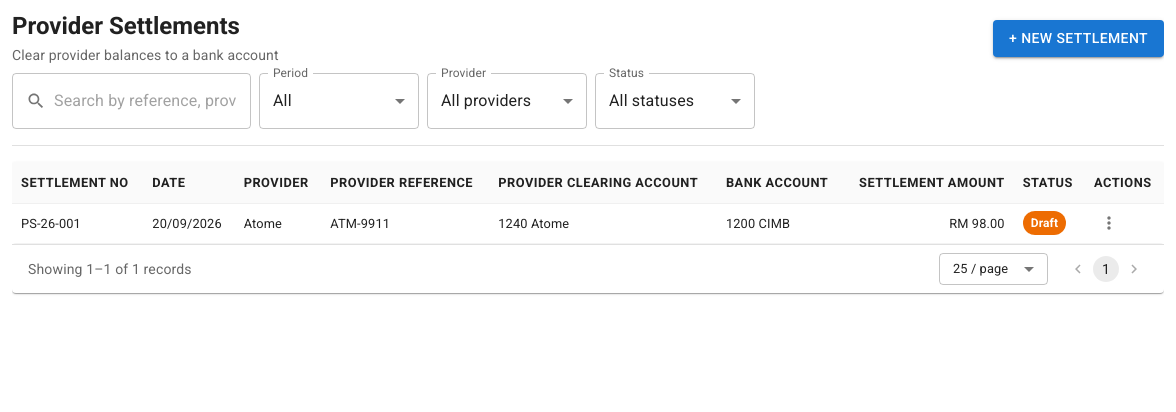
it: ProviderSettlementsPage › offers edit, post and discard on a draft row
Click the button named "actions": [1109, 223] box [1094,208,1124,238]
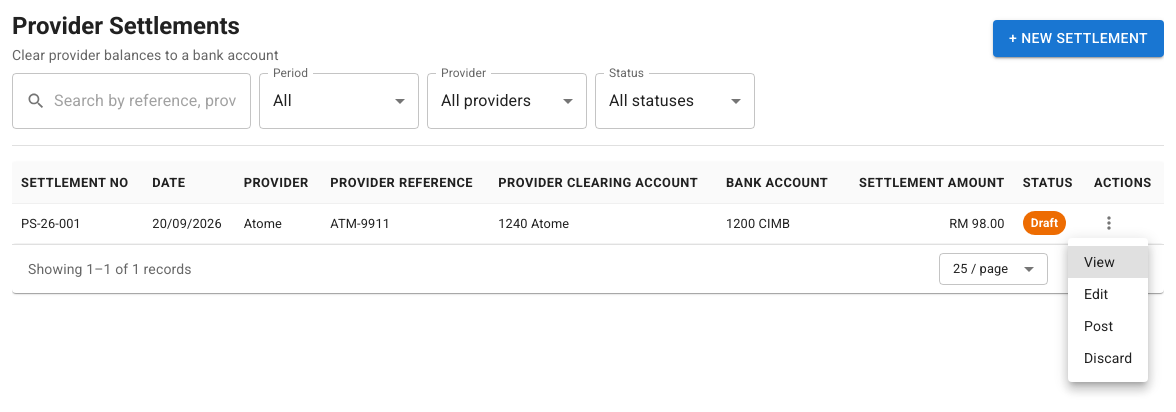
Result: the menu item "Edit" is shown at [1084,286,1108,302]
Result: the menu item "Post" is shown at [1084,318,1113,334]
Result: the menu item "Discard" is shown at [1084,350,1132,366]
